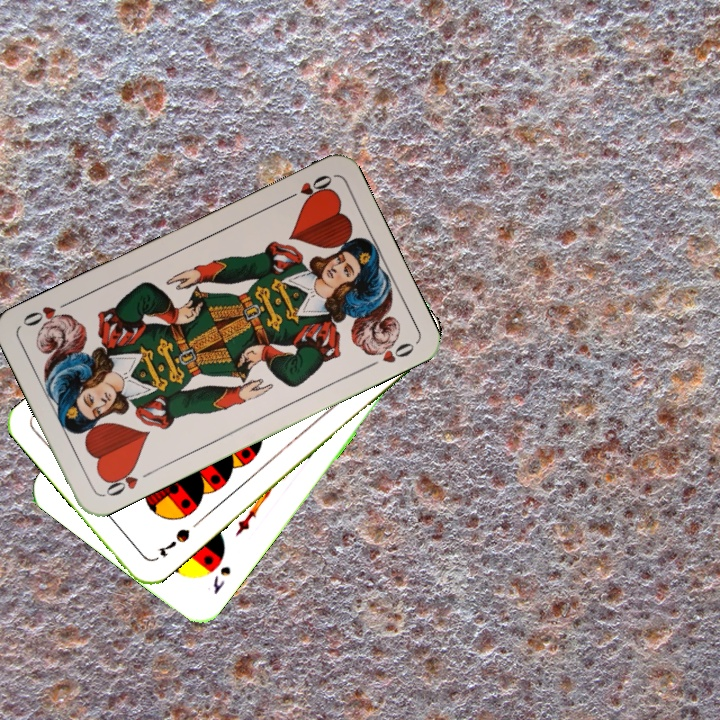HO: (100, 463, 155, 499), (279, 170, 335, 204)
S7: (154, 524, 193, 559)
SK: (208, 562, 234, 597)
